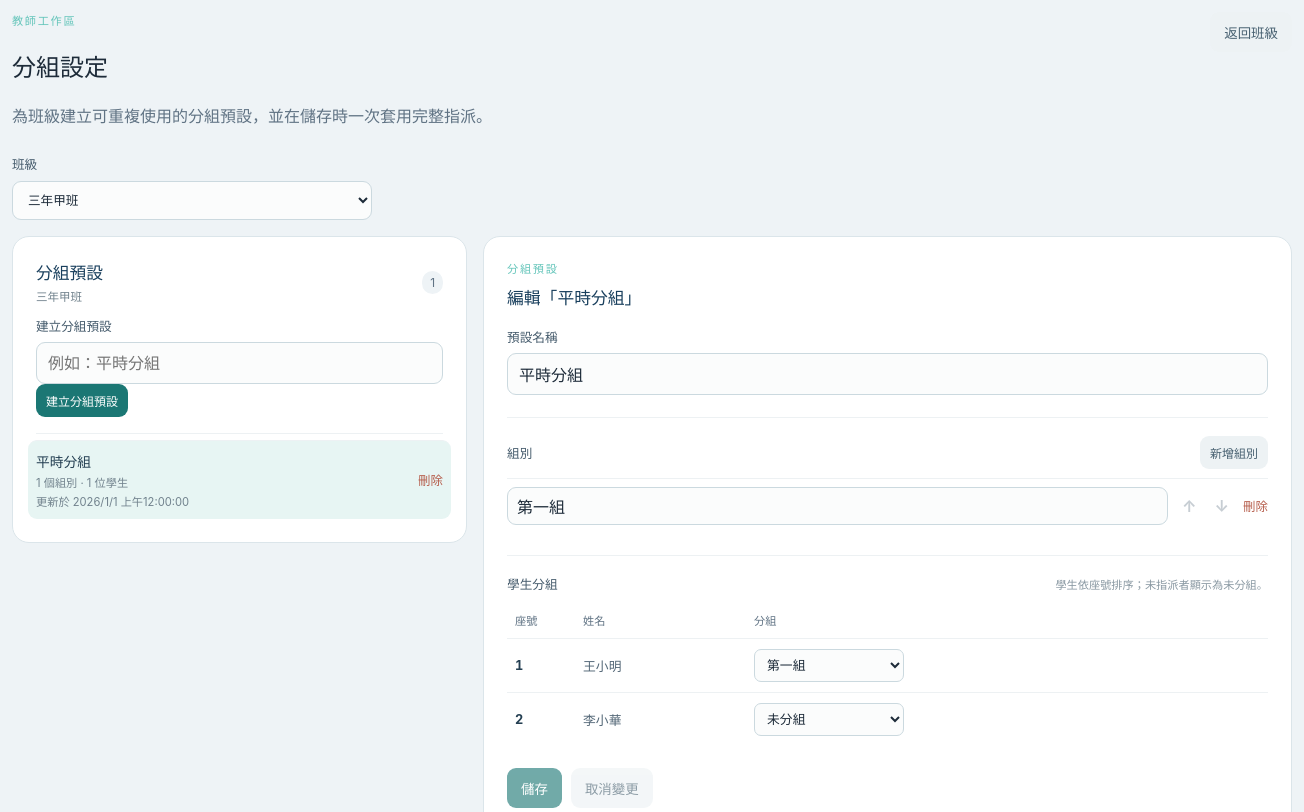
Test: GroupPresetPage › maps controlled backend validation errors to Traditional Chinese
This screenshot has width=1304, height=812.
Check: the heading "編輯「平時分組」" is shown, box [507,285,641,309]
Replace the text in the field labelled "預設名稱" with "更新名稱" at (888, 374), box [507,353,1268,395]
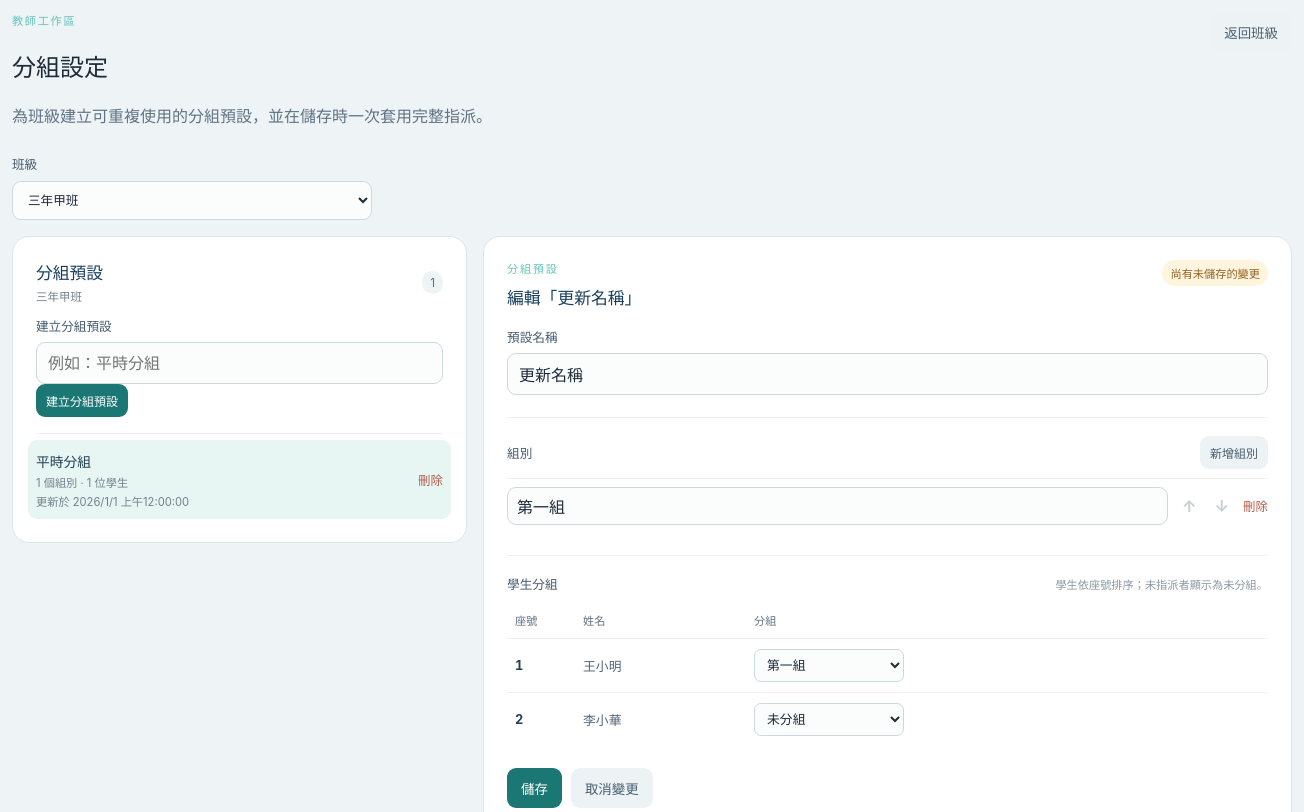
Click the button "儲存" at (534, 788), box [507,768,562,808]
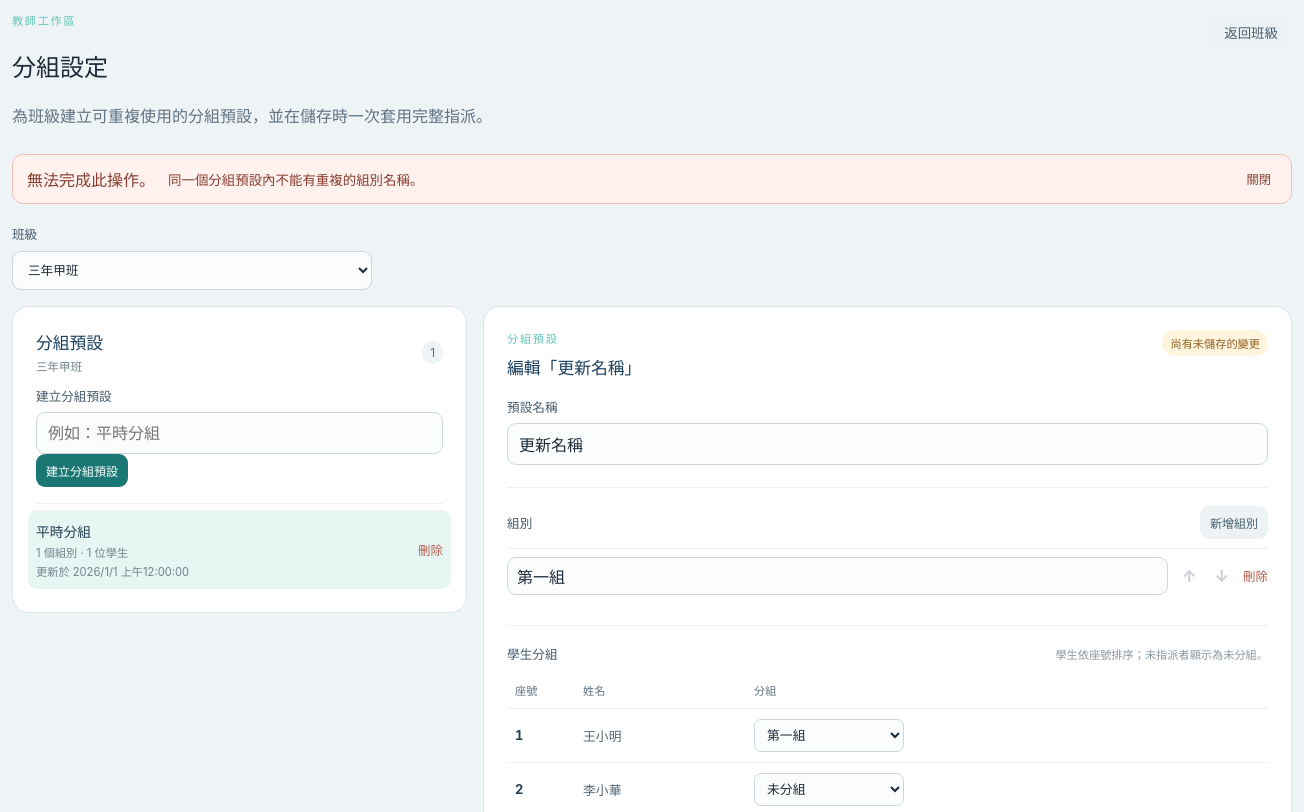
Check: the message shows "同一個分組預設內不能有重複的組別名稱。", box [168,172,423,188]
